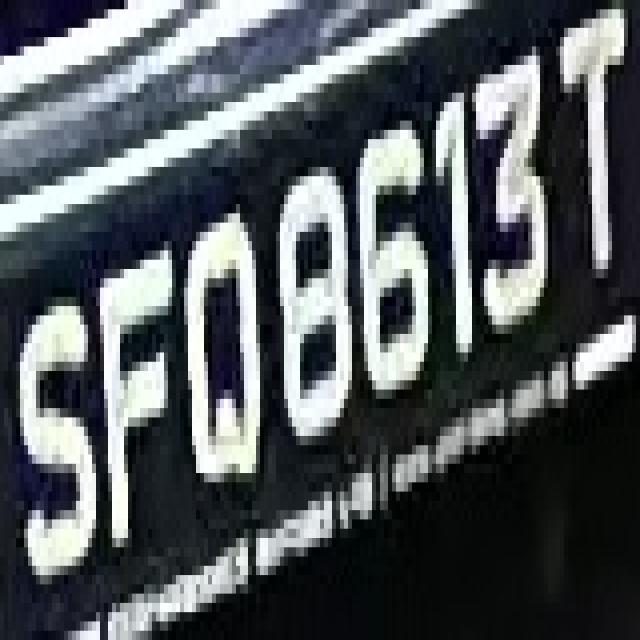1: (424, 74, 480, 408)
3: (460, 28, 564, 371)
6: (348, 102, 436, 417)
8: (260, 158, 360, 482)
F: (96, 213, 184, 584)
Q: (164, 186, 272, 520)
S: (12, 260, 104, 594)
T: (556, 0, 640, 306)
